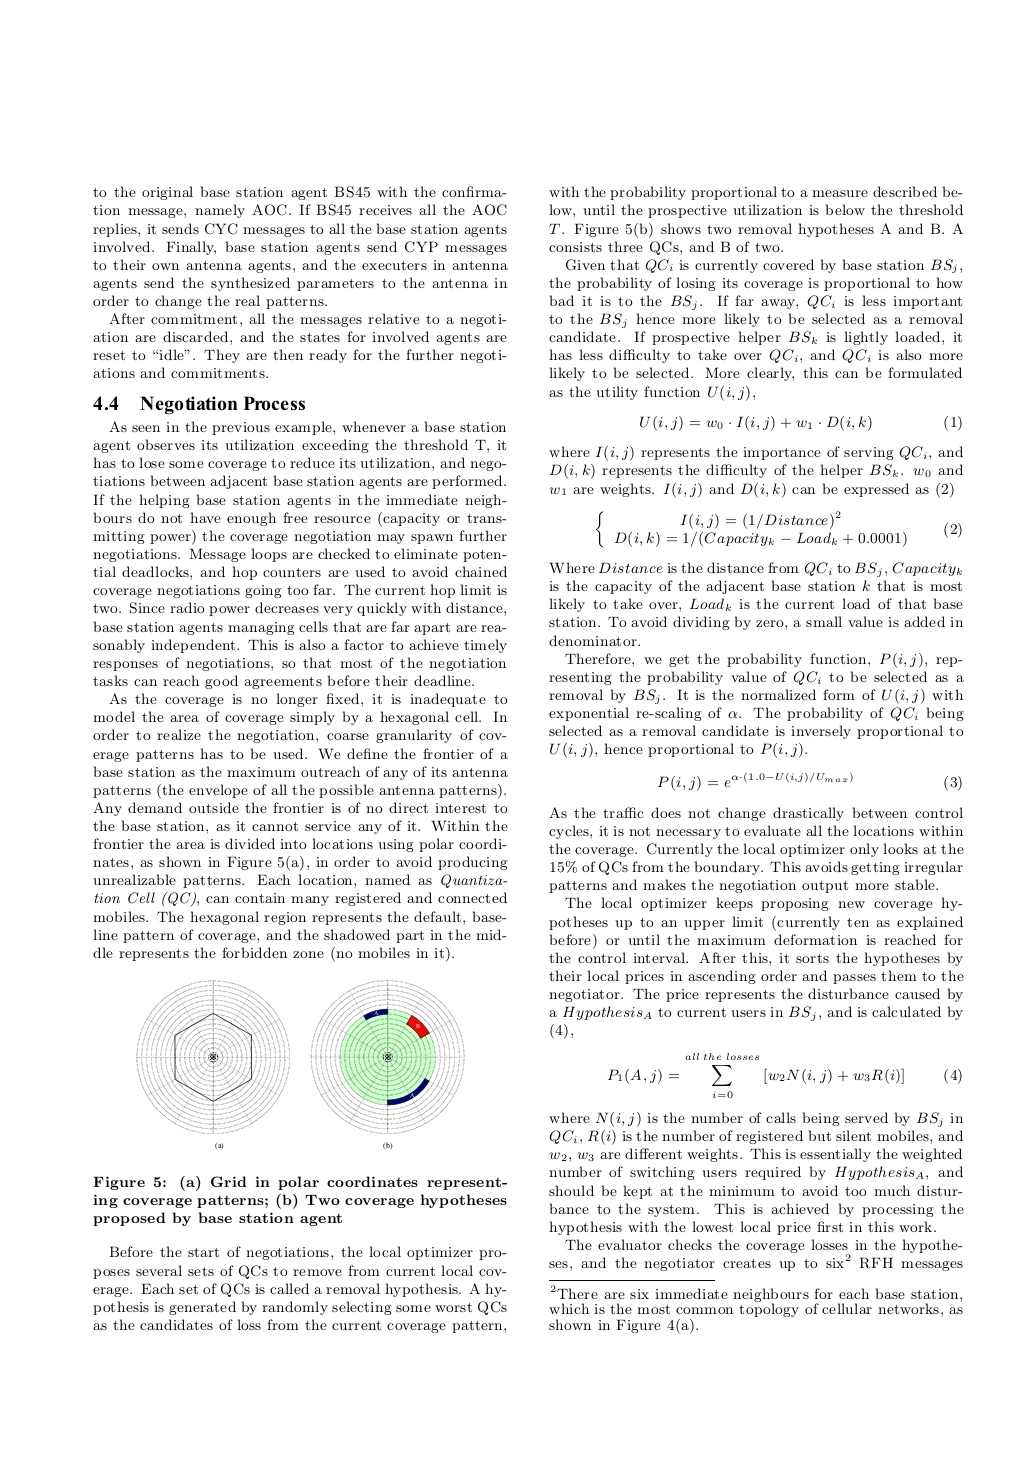figure: (310, 980, 464, 1149), (136, 985, 289, 1144)
formula: (607, 1053, 961, 1098), (596, 510, 961, 548), (657, 771, 961, 791), (640, 415, 961, 431)
